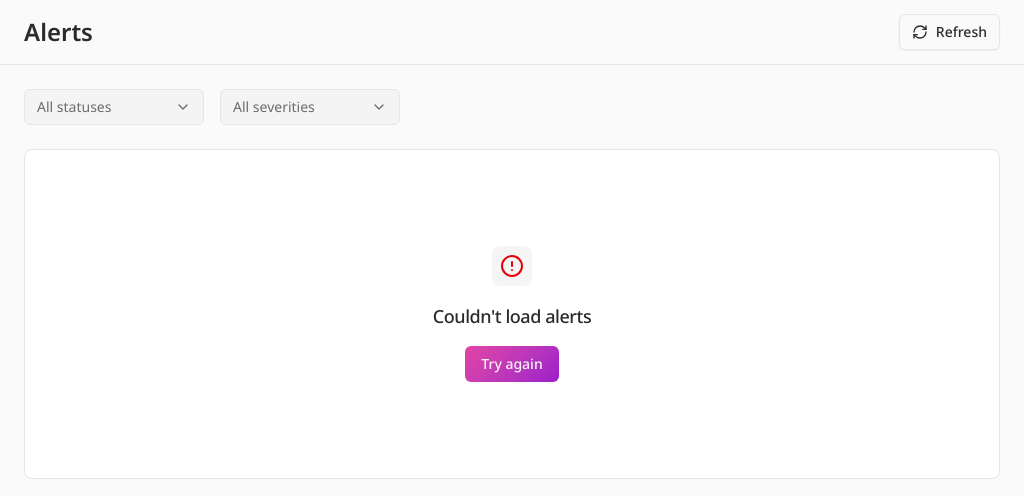
Scenario: OpsAlertsPage filters › shows a retryable error state instead of the all-clear state when loading fails
This screenshot has width=1024, height=496.
Check: the heading "Couldn't load alerts" is shown, box [433,302,591,330]
Check: the heading "No alerts" is not shown
Click the button "Try again". click: click(512, 364)
box: [465,346,559,382]
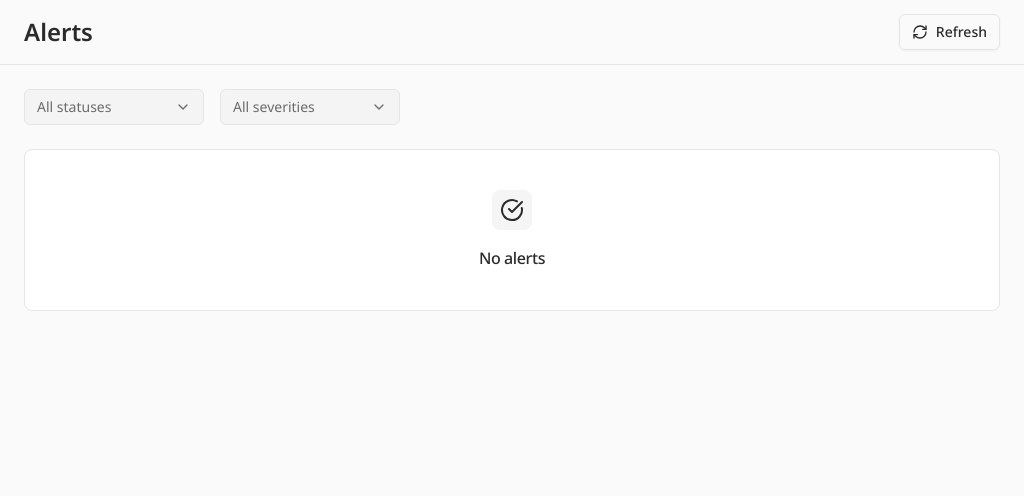
Check: the heading "No alerts" is shown, box [479,246,545,270]
